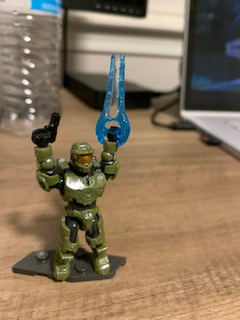chief: (31, 128, 121, 276)
pistol: (32, 110, 61, 149)
spartan: (29, 126, 119, 274)
up: (30, 130, 122, 207)
